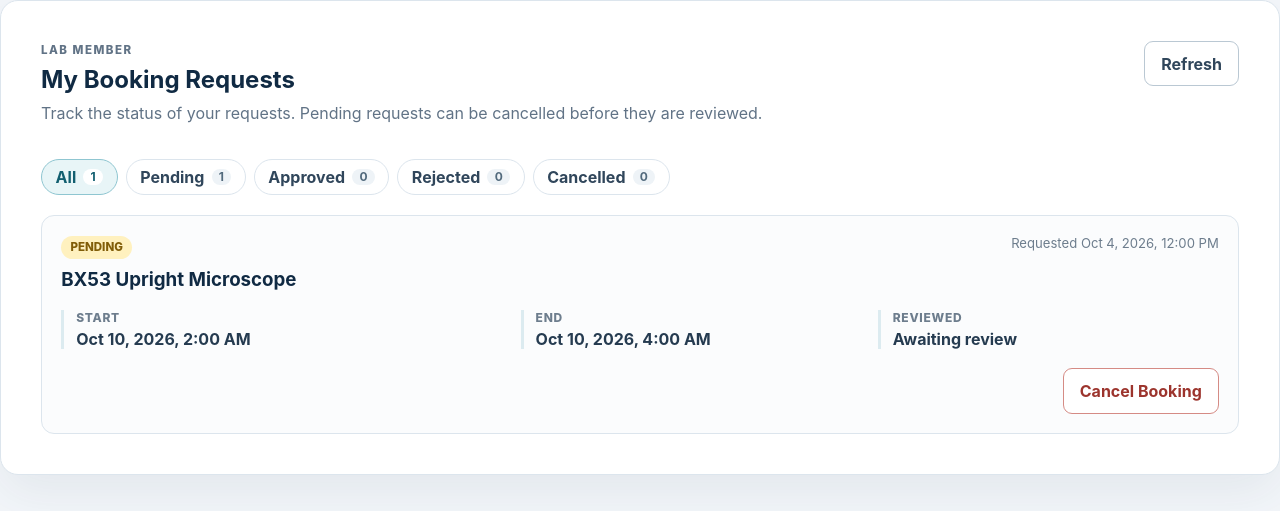
Test: MyBookings › cancels a confirmed pending booking and reloads the list
Click the button "Cancel Booking". click: (1141, 391)
box: [1063, 368, 1219, 414]
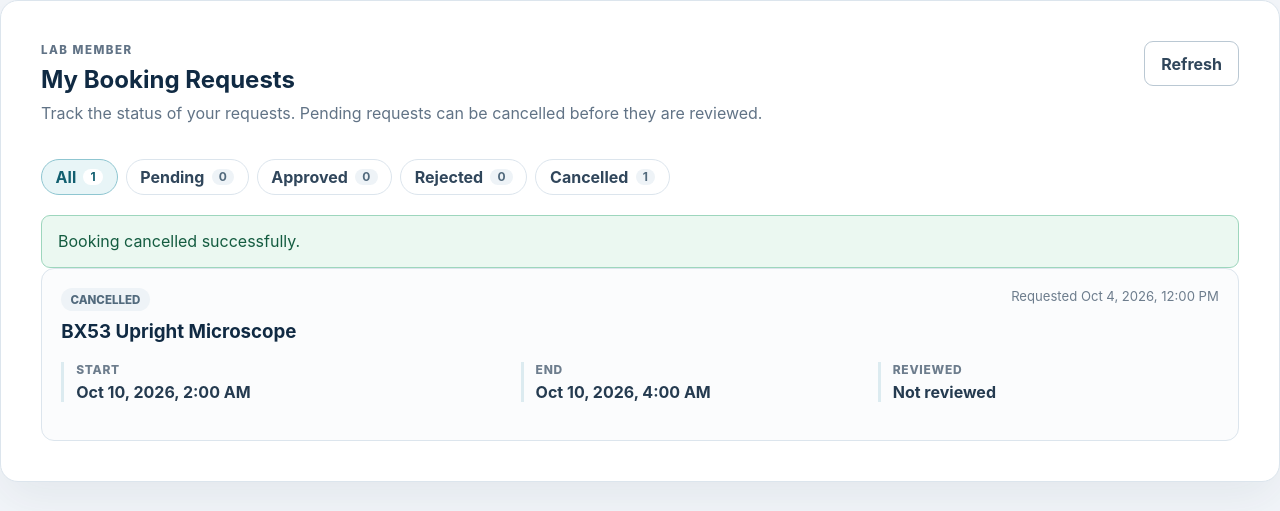
Result: the text "Cancelled" is shown at [61, 288, 150, 311]
Result: the button "Cancel Booking" is gone
